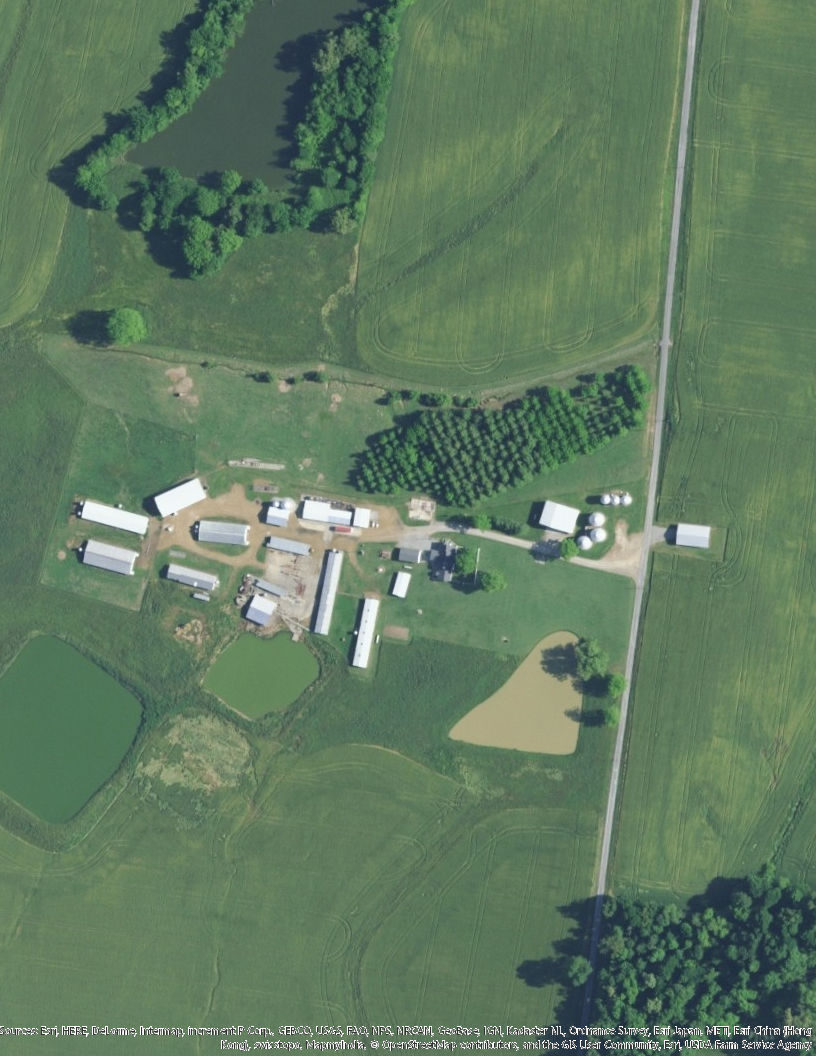cafo: (79, 497, 149, 537), (314, 549, 346, 636), (154, 473, 209, 520), (299, 497, 373, 531), (82, 539, 141, 580), (353, 597, 380, 668), (189, 518, 254, 547), (165, 562, 219, 591)
